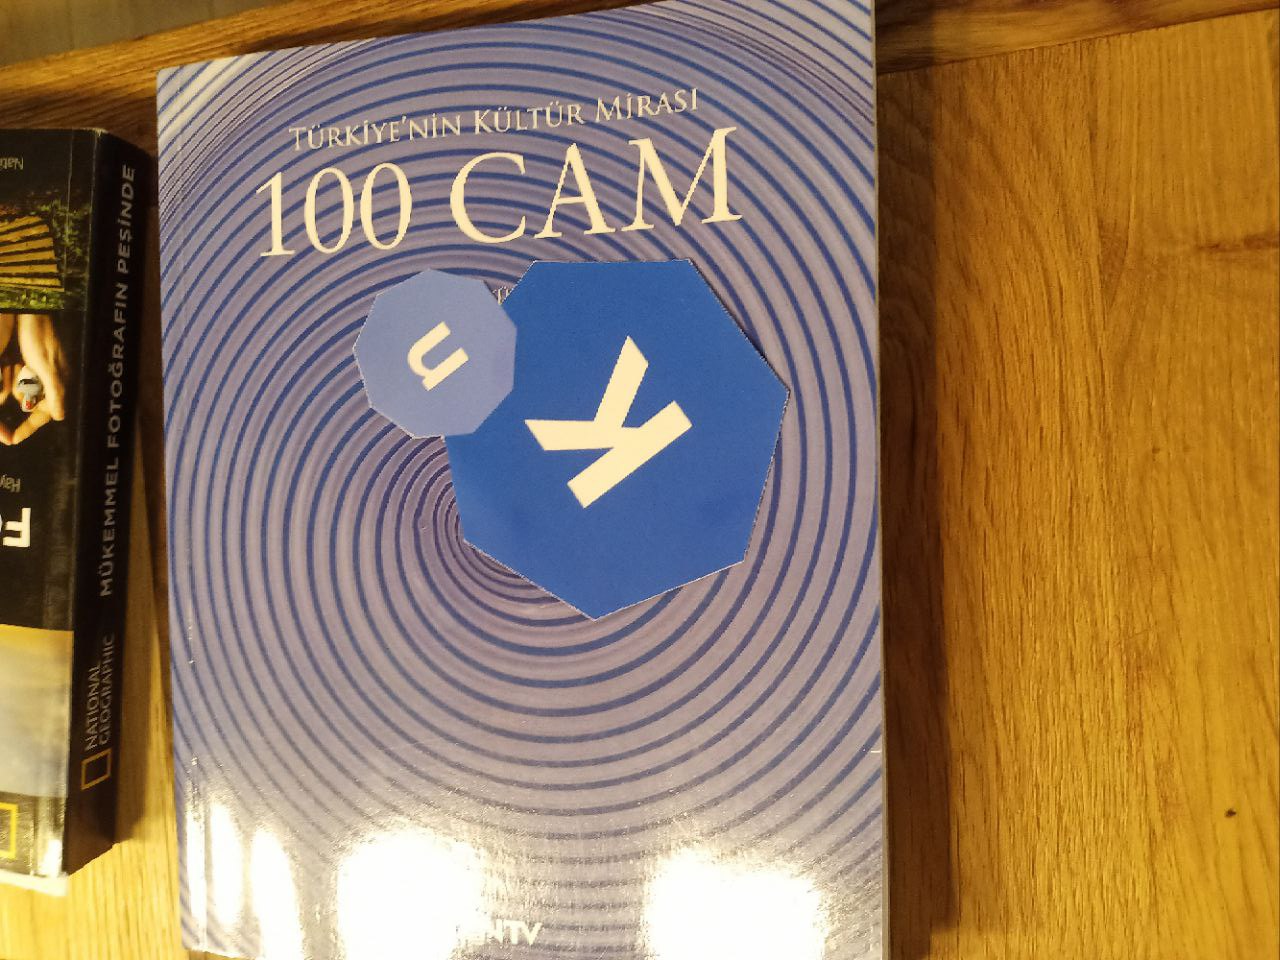knative: (357, 257, 798, 620)
